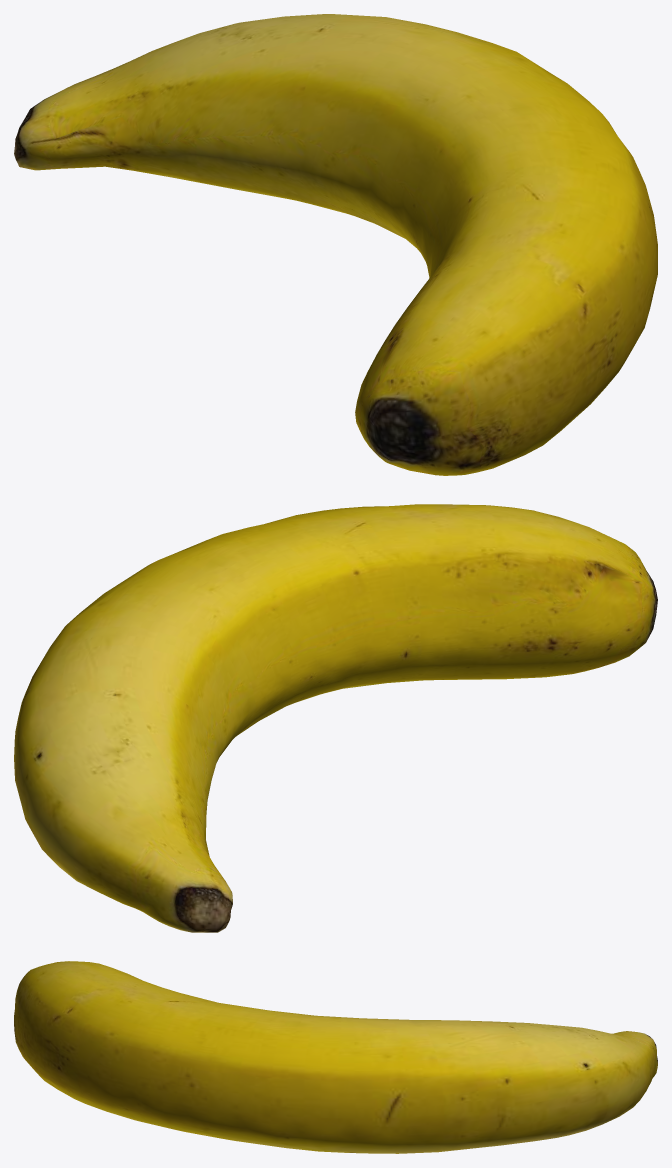
File: banana.glb
The picture shows the model from 3 angles, top to bottom: view 1: azimuth 30°, elevation 25°; view 2: azimuth 150°, elevation 25°; view 3: azimuth 270°, elevation 25°; orthographic projection. The views are drawn at different scales.
Parts seen in each view (by area): view 1: Banana; view 2: Banana; view 3: Banana.
Boxes of the visible parts, left/top/right/bottom form: Banana: left=14, top=14, right=657, bottom=475; Banana: left=14, top=504, right=657, bottom=932; Banana: left=14, top=961, right=657, bottom=1153.
Bounding box in the file's own units: 0.079 × 0.0322 × 0.1475.
Materials: 1 (1 with a texture image).
